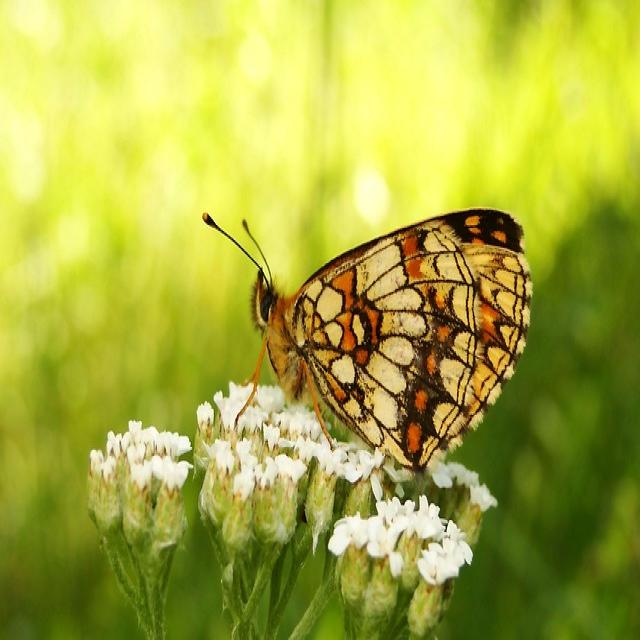butterfly: (233, 208, 534, 474)
